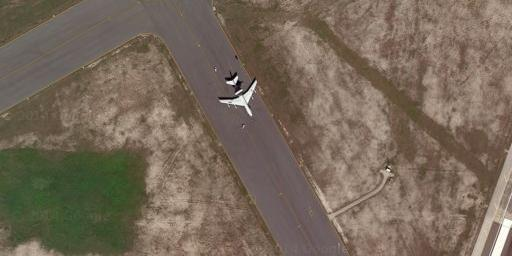E-3: (217, 73, 266, 119)
